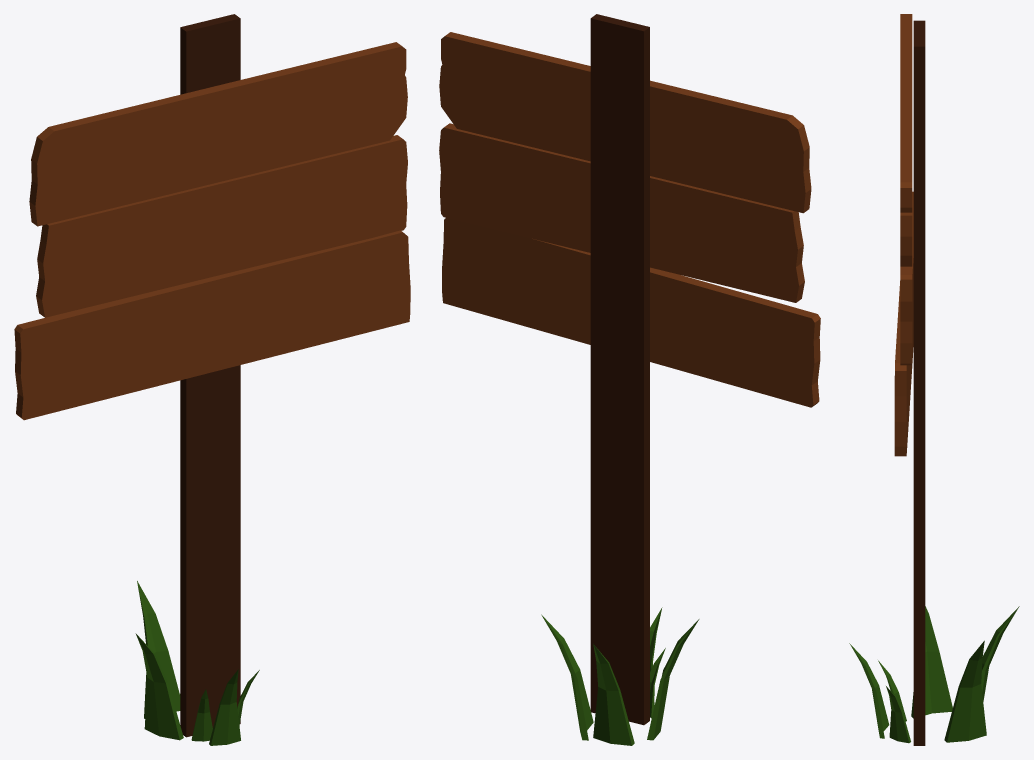
The model's file is Schild.obj.
The picture shows the model from 3 angles, left to right: view 1: azimuth 30°, elevation 25°; view 2: azimuth 150°, elevation 25°; view 3: azimuth 270°, elevation 25°; orthographic projection.
Parts seen in each view (by area): view 1: Sign7_Sign7; view 2: Sign7_Sign7; view 3: Sign7_Sign7.
Boxes of the visible parts, x1=… form: Sign7_Sign7: x1=14, y1=14, x2=410, y2=745; Sign7_Sign7: x1=439, y1=14, x2=820, y2=745; Sign7_Sign7: x1=849, y1=14, x2=1019, y2=745.
Size of the model in its own units: 113 by 198 by 43.85.
